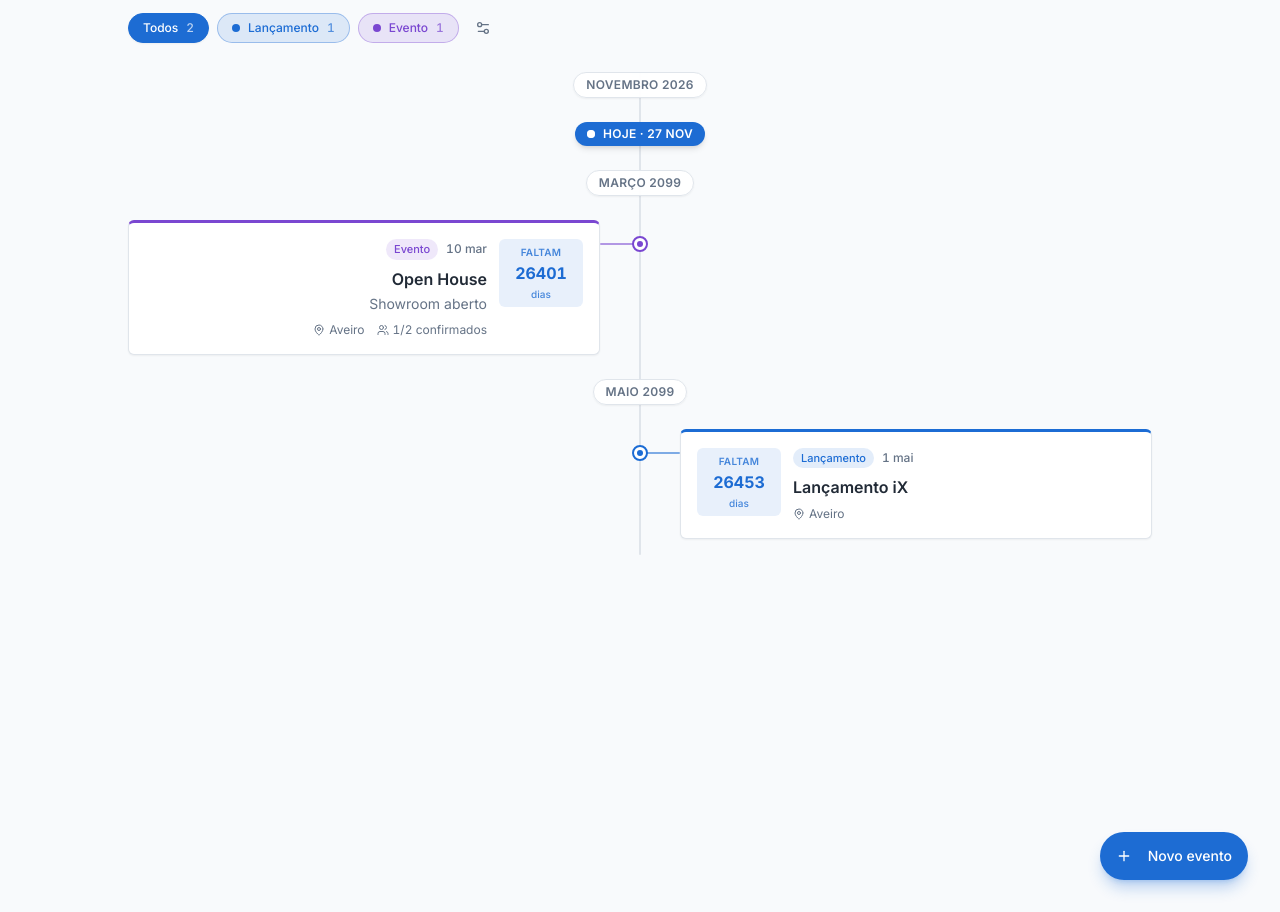
Test: MarketingPage › filtra por categoria
This screenshot has width=1280, height=912.
Click the button "Lançamento 1": click(283, 28) 217,13 -> 350,43
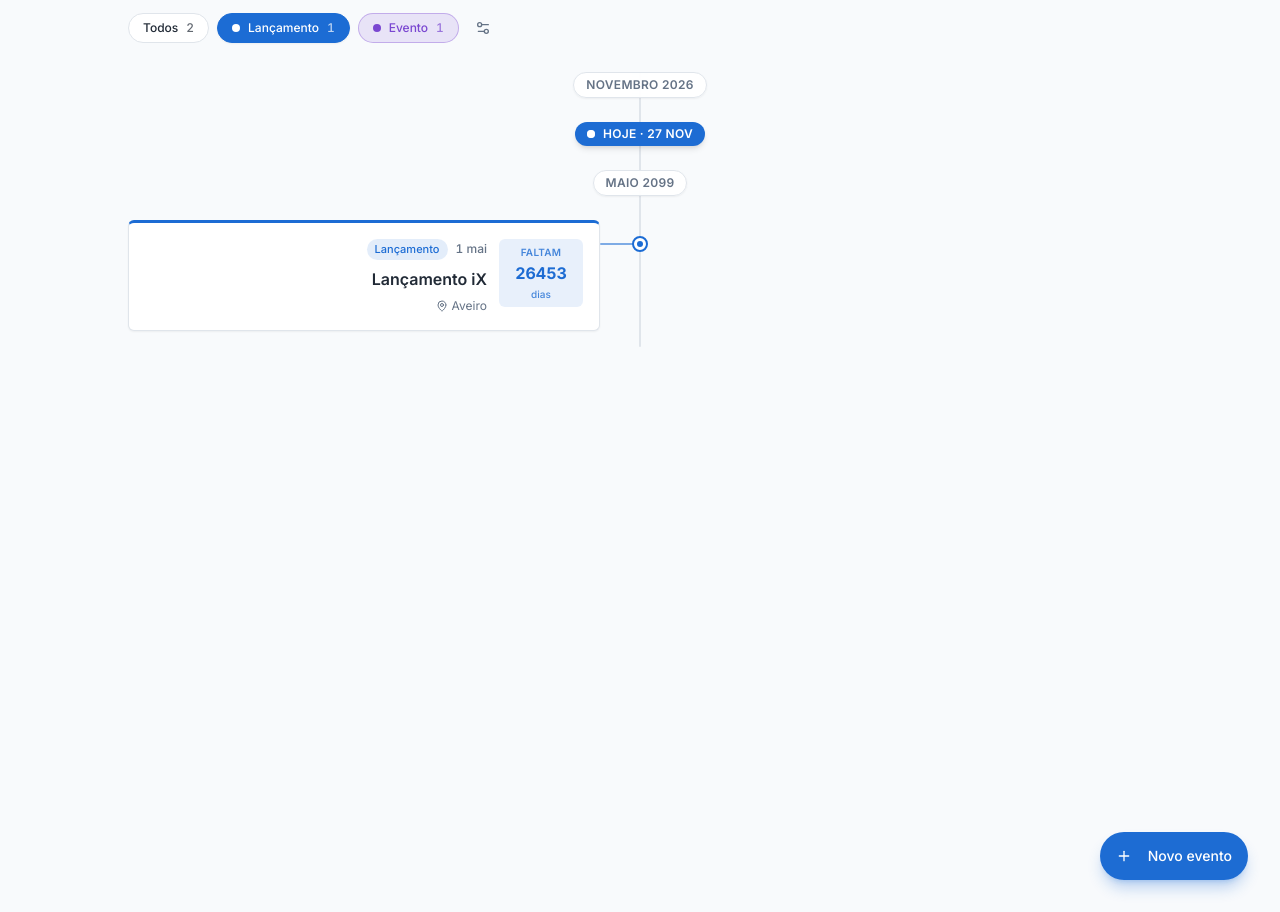
Now the number of list items with test id "evento" is 1, box 128,220 -> 640,330
Click the button "Todos 2": click(169, 28) 128,13 -> 209,43
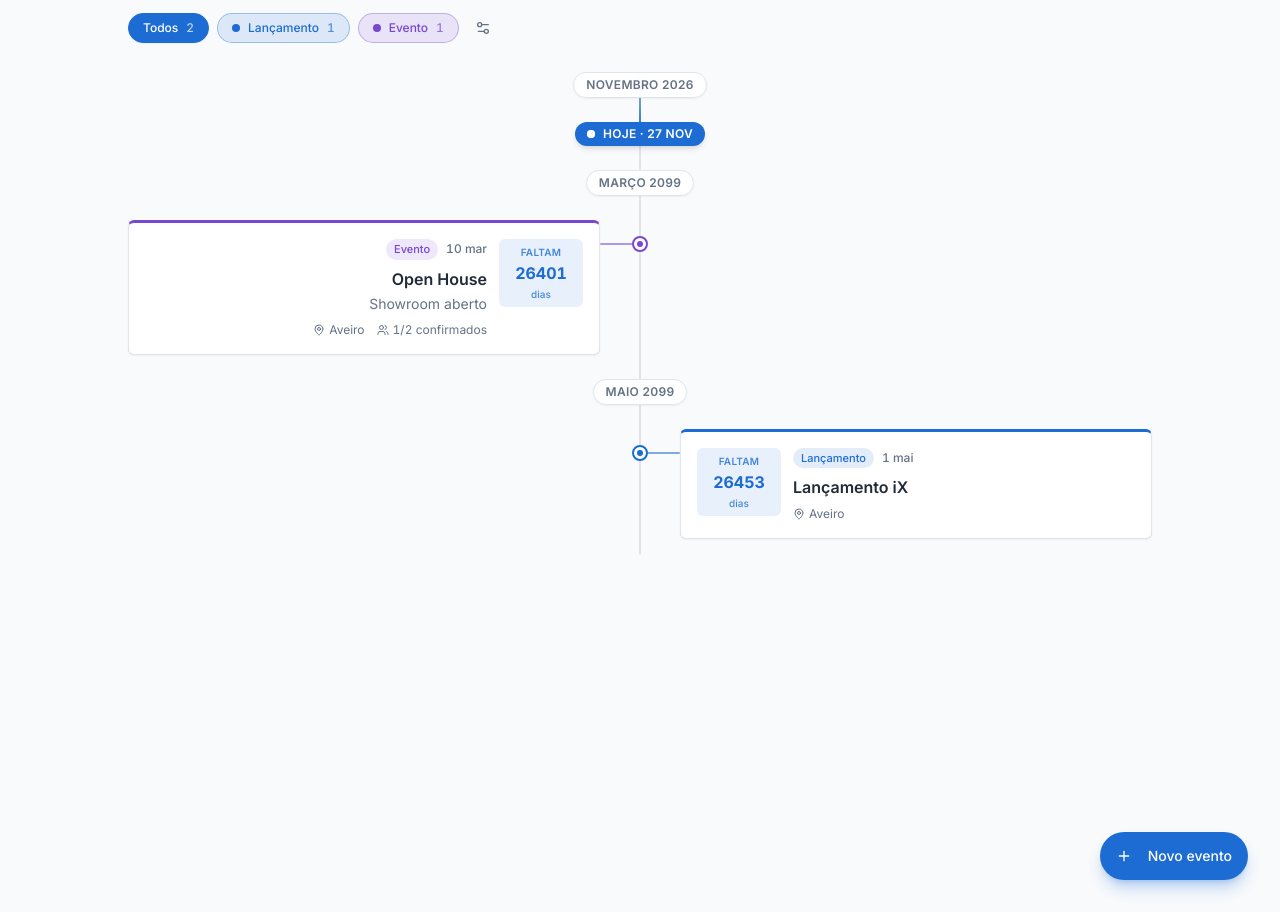
Now the number of list items with test id "evento" is 2, box 128,220 -> 640,354; 640,428 -> 1152,539
